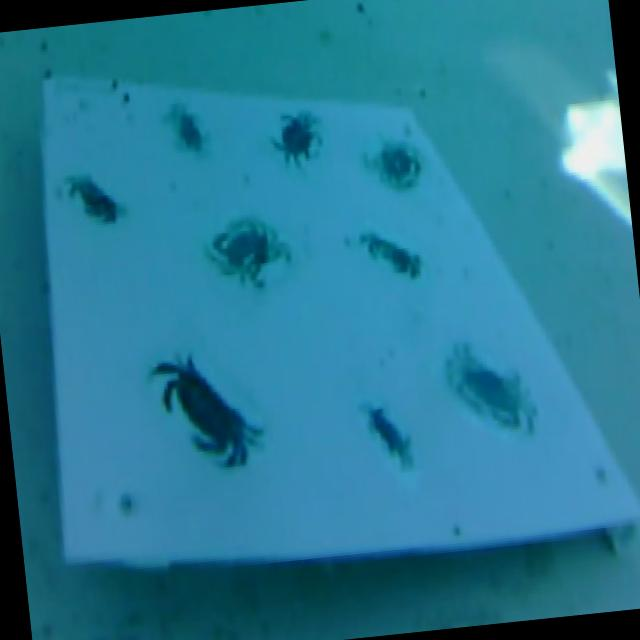green_crab: (363, 403, 412, 464), (273, 113, 317, 160), (163, 105, 205, 153)
jonah_crab: (446, 341, 536, 433), (205, 216, 290, 287), (363, 138, 423, 190)
rock_crab: (149, 355, 264, 465), (67, 176, 119, 219), (361, 234, 419, 270)
